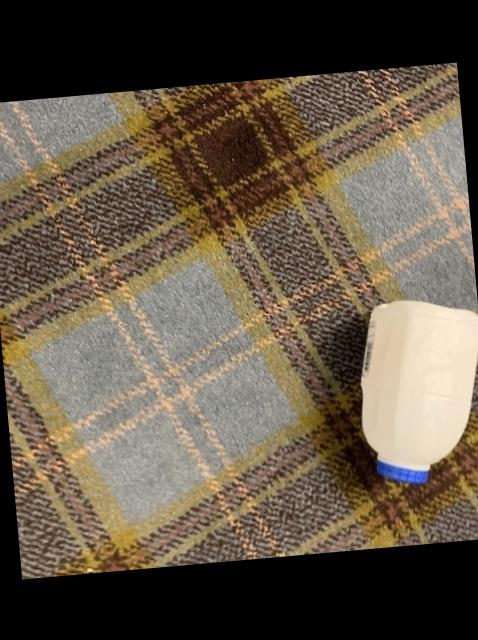plastic: (362, 300, 478, 483)
